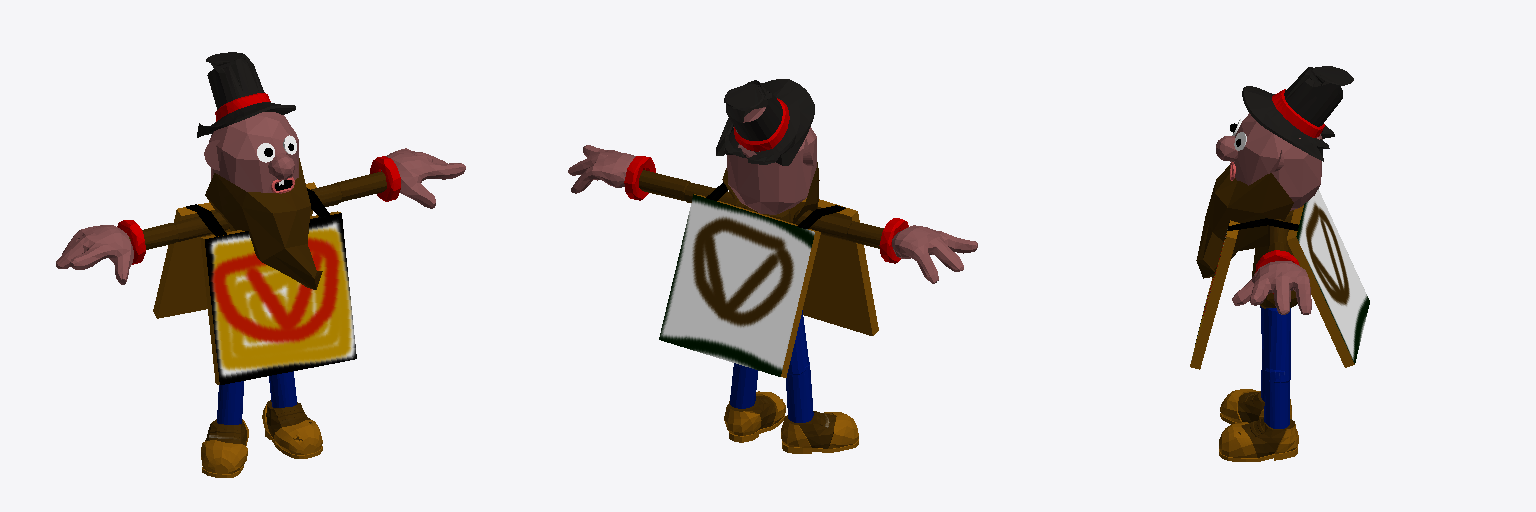
3 renders of one model, left to right at view 1: azimuth 30°, elevation 25°; view 2: azimuth 150°, elevation 25°; view 3: azimuth 270°, elevation 25°, orthographic.
Parts seen in each view (by area): view 1: Body, Head, RightLowerArm, LeftLowerArm, Hat, LeftLowerLeg, RightLowerLeg, RightUpperArm; view 2: Body, Hat, Head, RightLowerArm, RightLowerLeg, LeftLowerArm, LeftLowerLeg, RightUpperArm, RightUpperLeg, LeftUpperArm; view 3: Head, Body, Hat, LeftLowerLeg, LeftLowerArm, LeftUpperLeg, RightLowerLeg.
Boxes of the visible parts, x1,y1,x2,y2 form: Body: [153, 182, 356, 384]; Head: [204, 112, 322, 289]; RightLowerArm: [56, 220, 178, 284]; LeftLowerArm: [334, 148, 465, 208]; Hat: [197, 52, 295, 137]; LeftLowerLeg: [262, 371, 322, 458]; RightLowerLeg: [201, 381, 248, 477]; RightUpperArm: [173, 212, 229, 241]; Body: [659, 182, 878, 377]; Hat: [716, 79, 814, 165]; Head: [722, 107, 819, 223]; RightLowerArm: [847, 218, 977, 283]; RightLowerLeg: [781, 362, 858, 453]; LeftLowerArm: [568, 145, 690, 200]; LeftLowerLeg: [724, 363, 785, 442]; RightUpperArm: [793, 209, 853, 240]; RightUpperLeg: [787, 310, 808, 374]; LeftUpperArm: [684, 183, 746, 208]; Head: [1196, 113, 1322, 278]; Body: [1190, 189, 1369, 369]; Hat: [1242, 66, 1353, 161]; LeftLowerLeg: [1219, 368, 1298, 461]; LeftLowerArm: [1232, 242, 1311, 314]; LeftUpperLeg: [1265, 308, 1290, 382]; RightLowerLeg: [1220, 347, 1291, 424].
Bounding box in the file's own units: 6.07 × 5.49 × 2.4.
Materials: 1 (1 with a texture image).